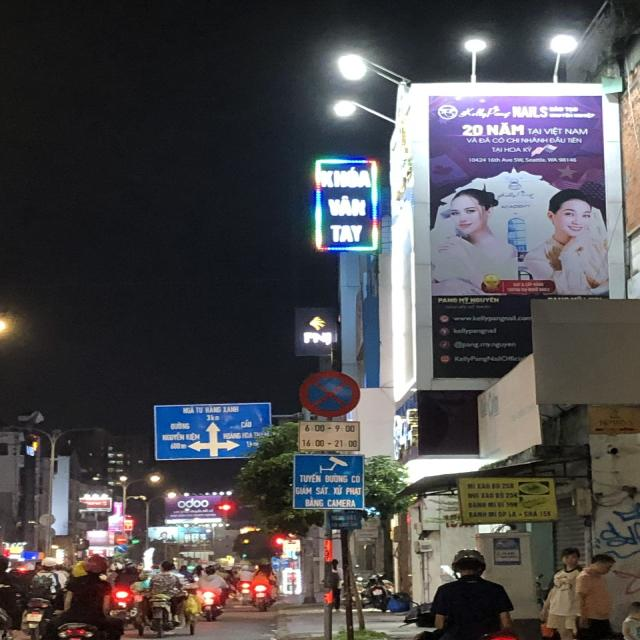Bien bao cam dung xe va do xe: (294, 368, 367, 421)
